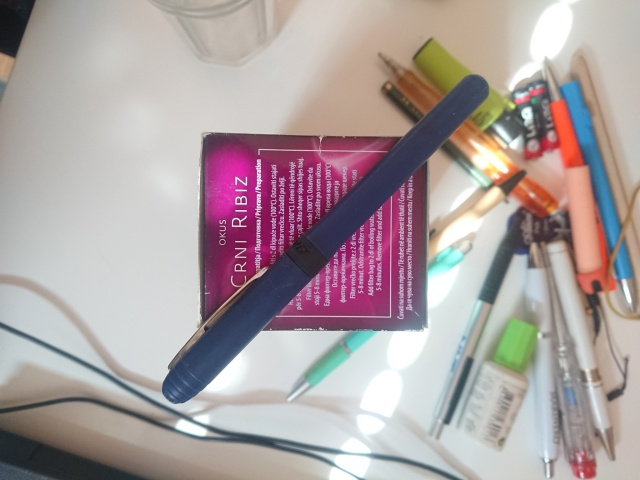Franck Black Currant Tea 60g: (194, 129, 433, 336)
